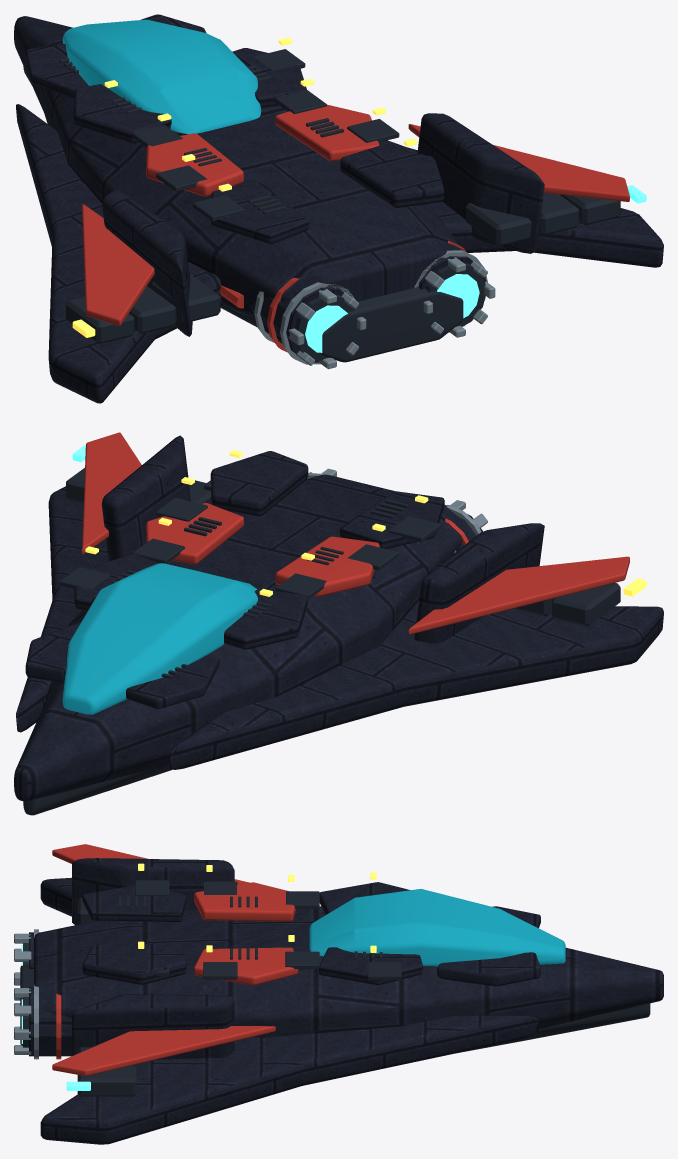
Rendered from viper.glb.
3 views of the same model, one above another, from view 1: azimuth 30°, elevation 25°; view 2: azimuth 150°, elevation 25°; view 3: azimuth 270°, elevation 25° (orthographic). The views are drawn at different scales.
Visible parts, largest first — view 1: Gôndola do motor.057 · exportação, Bocal do motor.057 · exportação, Colar da turbina.172 · exportação, Cabine panorâmica.028 · exportação, Aleta do bocal.463 · exportação, Núcleo propulsor.057 · exportação, Luz de serviço.231 · exportação; view 2: Gôndola do motor.057 · exportação, Cabine panorâmica.028 · exportação, Colar da turbina.172 · exportação, Bocal do motor.057 · exportação, Luz de serviço.231 · exportação, Aleta do bocal.463 · exportação; view 3: Gôndola do motor.057 · exportação, Cabine panorâmica.028 · exportação, Colar da turbina.172 · exportação, Bocal do motor.057 · exportação, Aleta do bocal.463 · exportação.
Part boxes in pixels (x1,y1,x2,y2): Gôndola do motor.057 · exportação: [14, 14, 663, 403]; Bocal do motor.057 · exportação: [23, 49, 620, 362]; Colar da turbina.172 · exportação: [82, 104, 629, 352]; Cabine panorâmica.028 · exportação: [62, 19, 261, 134]; Aleta do bocal.463 · exportação: [254, 250, 495, 369]; Núcleo propulsor.057 · exportação: [305, 185, 646, 352]; Luz de serviço.231 · exportação: [72, 37, 417, 337]; Gôndola do motor.057 · exportação: [14, 435, 663, 801]; Cabine panorâmica.028 · exportação: [62, 563, 257, 714]; Colar da turbina.172 · exportação: [82, 432, 629, 634]; Bocal do motor.057 · exportação: [23, 468, 620, 815]; Luz de serviço.231 · exportação: [85, 450, 646, 596]; Aleta do bocal.463 · exportação: [307, 468, 487, 552]; Gôndola do motor.057 · exportação: [29, 858, 663, 1144]; Cabine panorâmica.028 · exportação: [309, 889, 565, 966]; Colar da turbina.172 · exportação: [52, 844, 298, 1075]; Bocal do motor.057 · exportação: [20, 880, 650, 1096]; Aleta do bocal.463 · exportação: [14, 929, 38, 1059].
Size of the model in its own units: 42.87 by 11.1 by 47.54.
7 materials, 1 textured.
